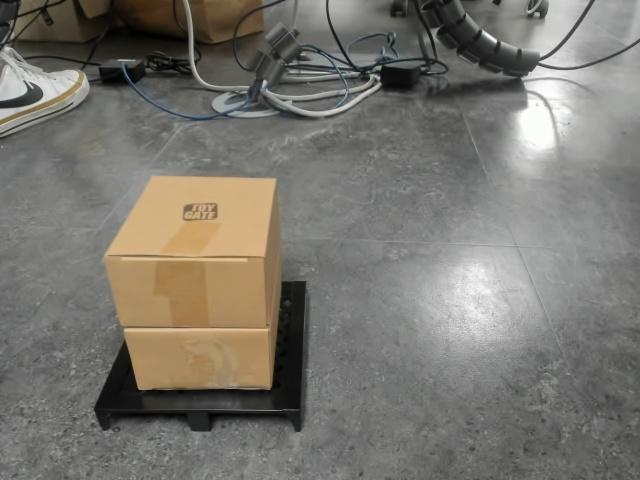box: (89, 173, 309, 429)
